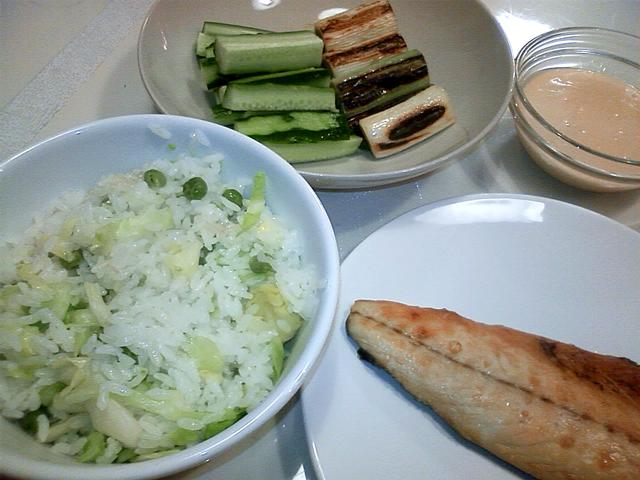plate: (0, 114, 339, 479), (301, 194, 639, 479)
rice: (0, 155, 319, 464)
